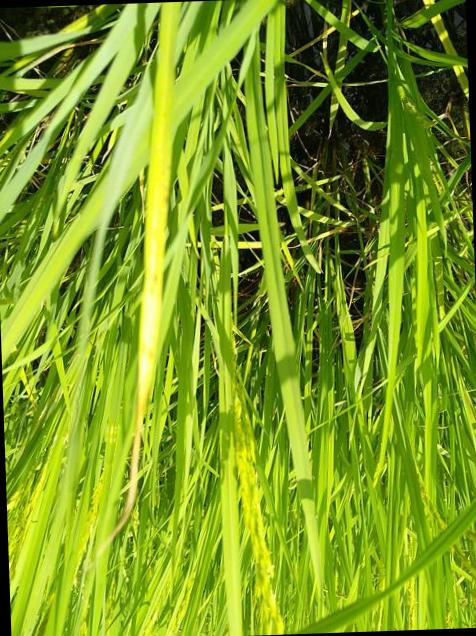Leaf Streak: (106, 2, 180, 542)
